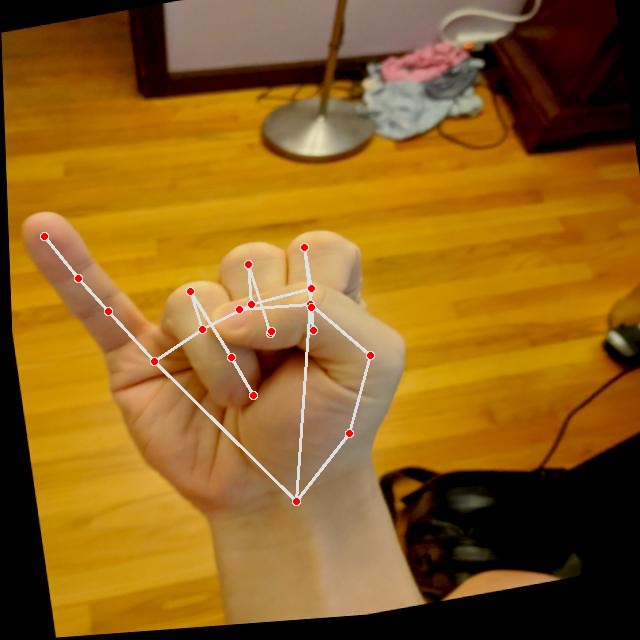I: (8, 148, 432, 558)
